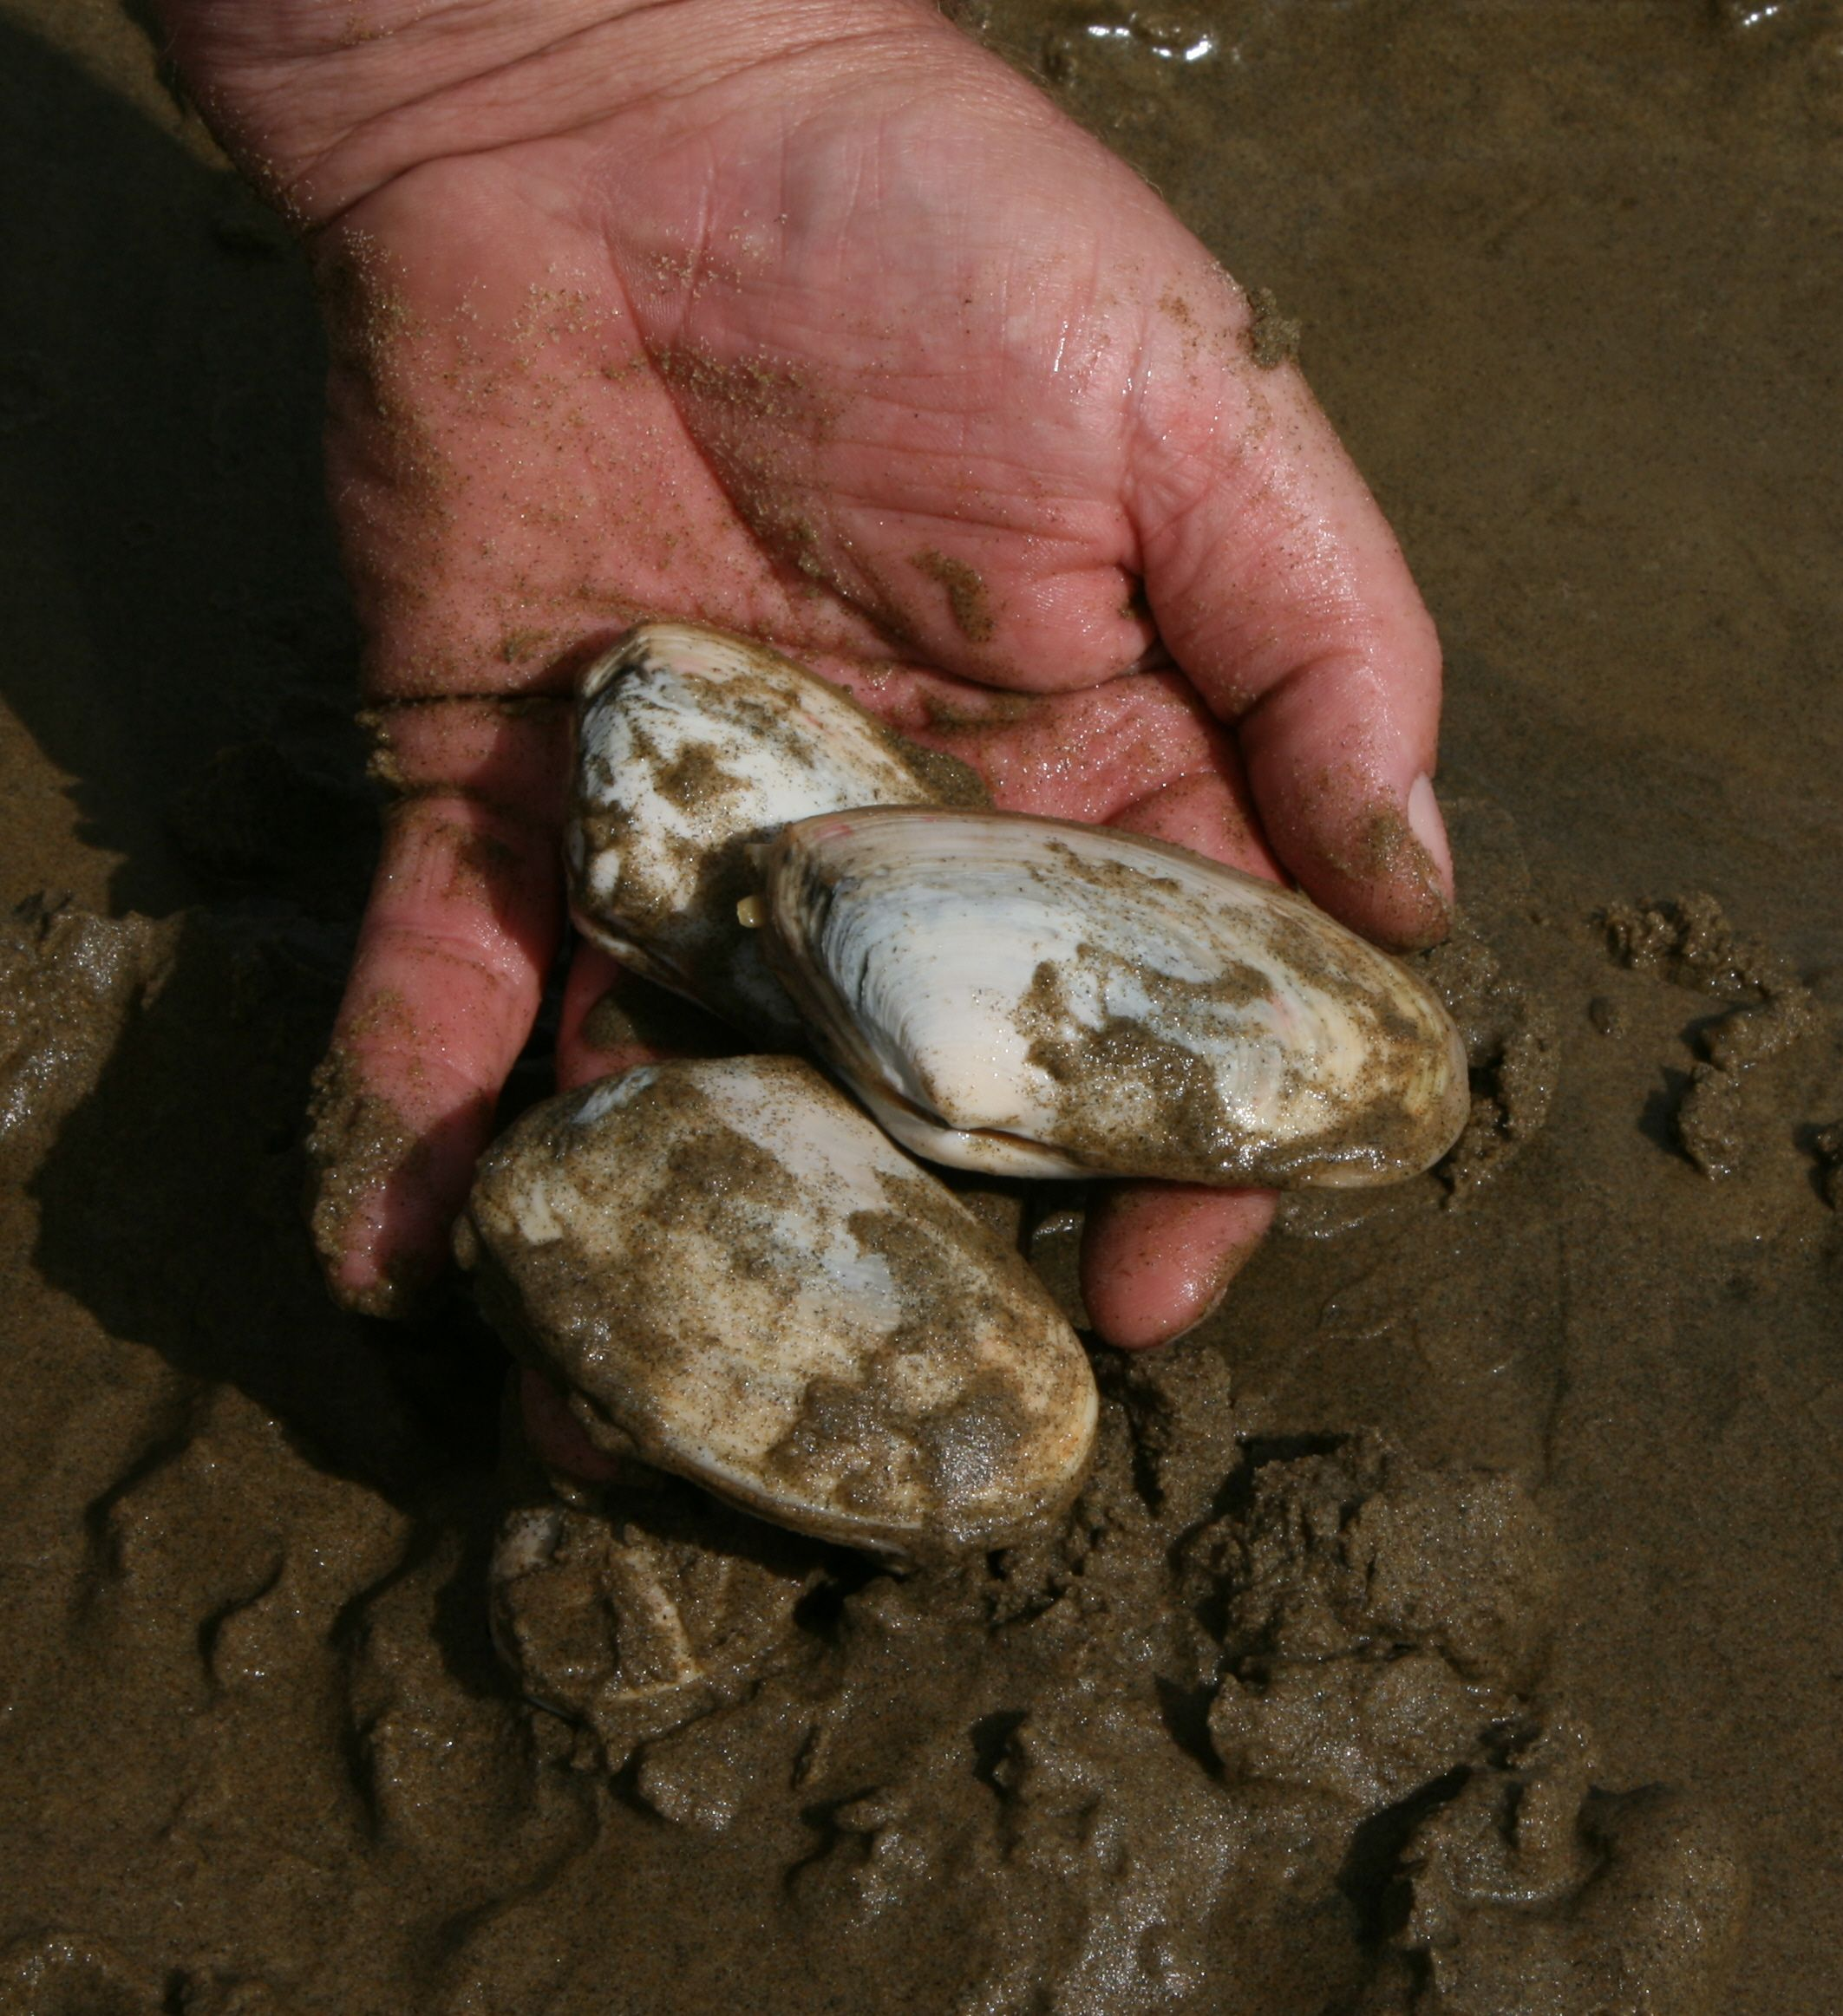tuatua: (467, 1033, 1110, 1556), (740, 790, 1481, 1203), (560, 620, 887, 1001)
